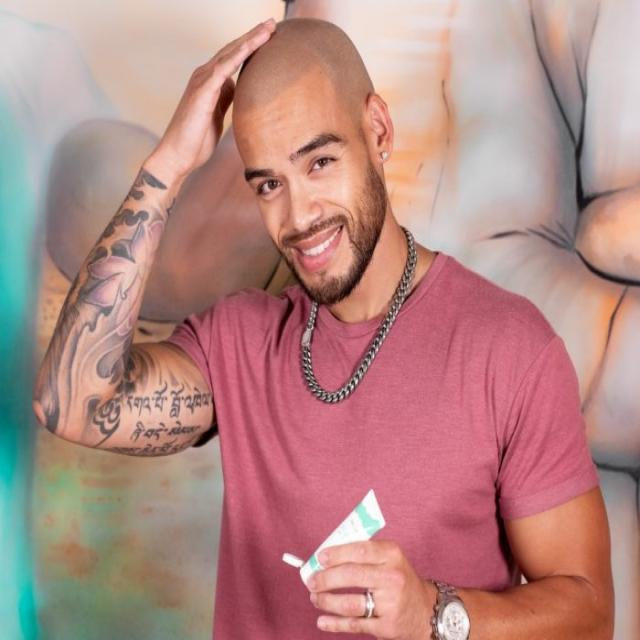bald: (217, 6, 385, 134)
